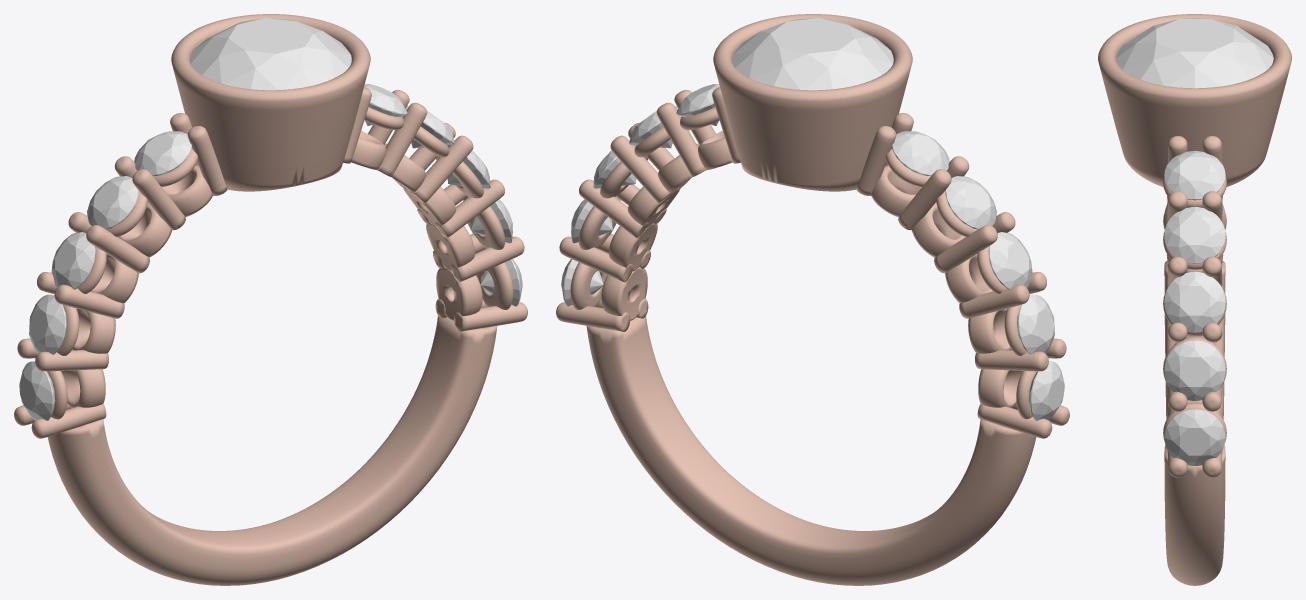
The model's file is diamond-round-rosegold-bezelset-straightband-5stone.glb.
The picture shows the model from 3 angles, left to right: view 1: azimuth 30°, elevation 25°; view 2: azimuth 150°, elevation 25°; view 3: azimuth 270°, elevation 25°; orthographic projection. The views are drawn at different scales.
Parts seen in each view (by area): view 1: metal, stone, side.006, side.007, side.005, side.008, side.009, side, side.004, side.001, side.003; view 2: metal, stone, side.006, side.007, side.005, side.008, side.009, side, side.004, side.001, side.003; view 3: metal, stone, side.003, side.002, side.001, side.004, side.
Part boxes in pixels (x1,y1,x2,y2): metal: [14, 14, 527, 585]; stone: [190, 18, 351, 90]; side.006: [87, 176, 138, 229]; side.007: [51, 232, 95, 289]; side.005: [134, 131, 191, 175]; side.008: [29, 294, 66, 354]; side.009: [19, 361, 55, 420]; side: [364, 84, 407, 125]; side.004: [480, 259, 522, 306]; side.001: [405, 106, 454, 148]; side.003: [471, 199, 512, 243]; metal: [556, 14, 1069, 585]; stone: [732, 18, 893, 90]; side.006: [945, 176, 996, 229]; side.007: [988, 232, 1032, 289]; side.005: [892, 131, 949, 175]; side.008: [1017, 294, 1054, 354]; side.009: [1028, 361, 1064, 420]; side: [676, 84, 719, 125]; side.004: [561, 259, 603, 306]; side.001: [629, 106, 678, 148]; side.003: [571, 199, 612, 243]; metal: [1098, 14, 1291, 585]; stone: [1116, 18, 1273, 88]; side.003: [1164, 340, 1225, 400]; side.002: [1164, 271, 1225, 332]; side.001: [1164, 207, 1225, 263]; side.004: [1164, 409, 1225, 465]; side: [1164, 150, 1225, 200].
Bounding box in the file's own units: 22.63 × 23.81 × 7.94.
